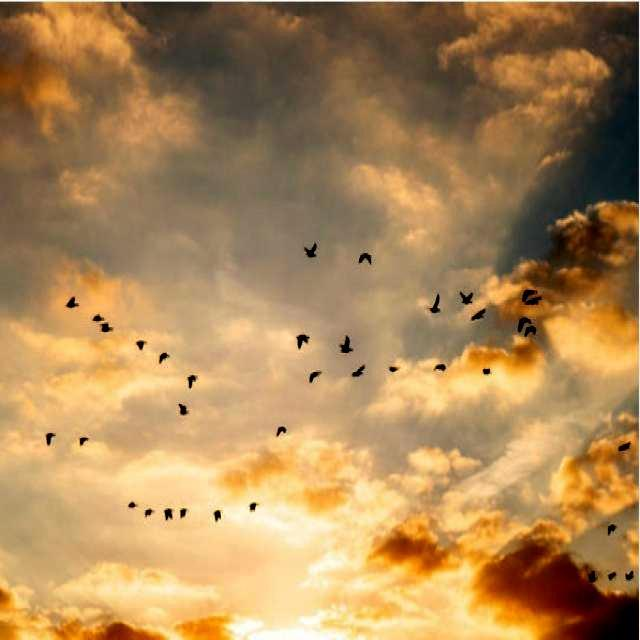bird: (578, 562, 606, 588), (298, 236, 322, 264), (334, 332, 360, 356), (423, 290, 447, 314), (206, 503, 230, 526), (348, 361, 372, 382), (602, 516, 620, 542), (128, 334, 148, 356), (354, 247, 373, 269), (174, 399, 192, 422), (605, 566, 622, 590), (522, 296, 550, 310), (184, 369, 201, 392), (158, 505, 176, 526), (291, 331, 309, 352), (154, 349, 174, 367), (458, 288, 476, 308), (77, 431, 94, 451), (272, 422, 292, 439), (470, 308, 490, 325), (522, 324, 542, 341), (305, 369, 324, 386), (388, 360, 404, 380), (624, 565, 636, 591), (178, 504, 192, 526), (64, 296, 80, 314), (142, 500, 154, 524), (244, 500, 262, 516), (43, 432, 58, 451), (615, 440, 635, 454), (97, 324, 118, 337), (124, 496, 140, 512), (522, 286, 542, 298), (480, 361, 494, 378), (431, 360, 447, 374), (516, 316, 529, 329), (91, 314, 105, 324)
